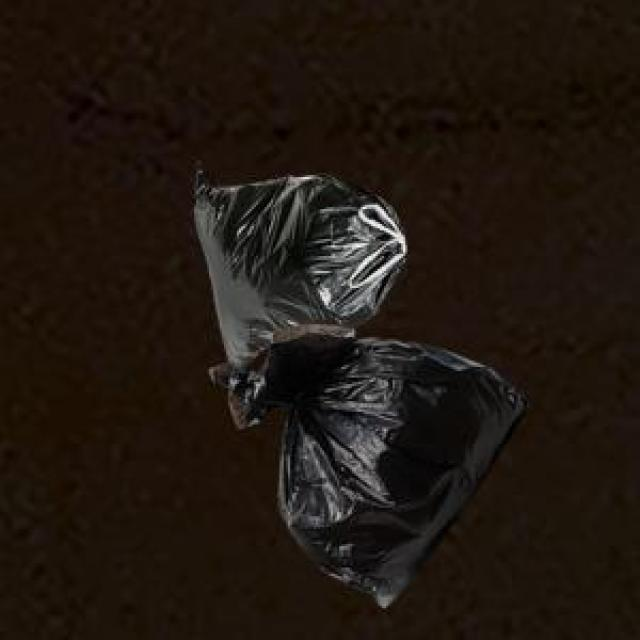Vinyl: (195, 171, 525, 607)
